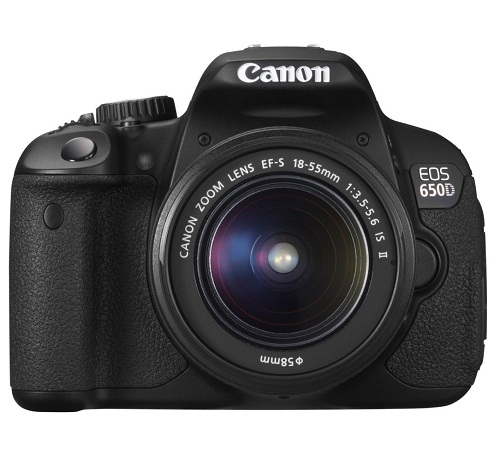kamera: (5, 40, 492, 424)
